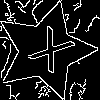X: (20, 25, 76, 83)
